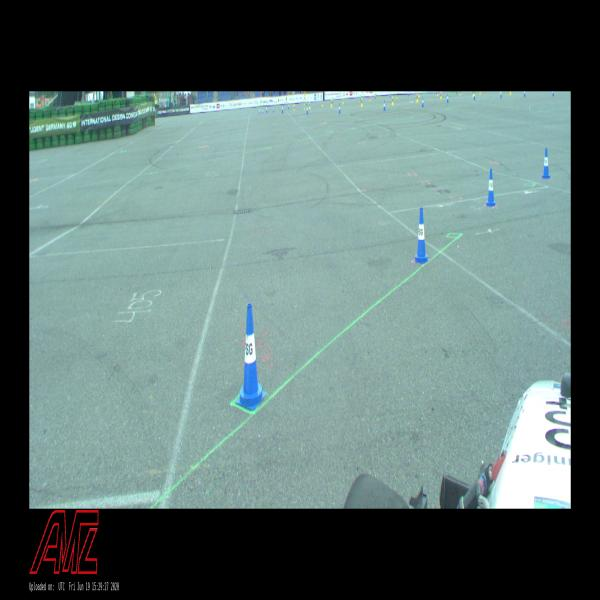blue_cone: (235, 304, 266, 410), (413, 208, 430, 264), (486, 168, 496, 208), (542, 150, 550, 180), (421, 96, 424, 108), (383, 100, 386, 112), (446, 93, 449, 104), (306, 104, 309, 115), (281, 104, 284, 114), (338, 104, 341, 114), (473, 92, 476, 100), (272, 104, 274, 114), (258, 105, 260, 114), (523, 92, 526, 98), (500, 91, 502, 99), (266, 105, 267, 113), (552, 93, 554, 97), (262, 106, 263, 113), (288, 102, 289, 109), (456, 91, 457, 95)
yellow_cone: (391, 95, 394, 107), (308, 101, 311, 110), (361, 97, 363, 108), (416, 93, 418, 103), (293, 103, 295, 111), (342, 97, 344, 105), (303, 103, 305, 110), (459, 91, 461, 98), (330, 100, 332, 107), (369, 95, 371, 102), (440, 92, 442, 98), (472, 92, 474, 98), (322, 102, 323, 108)
